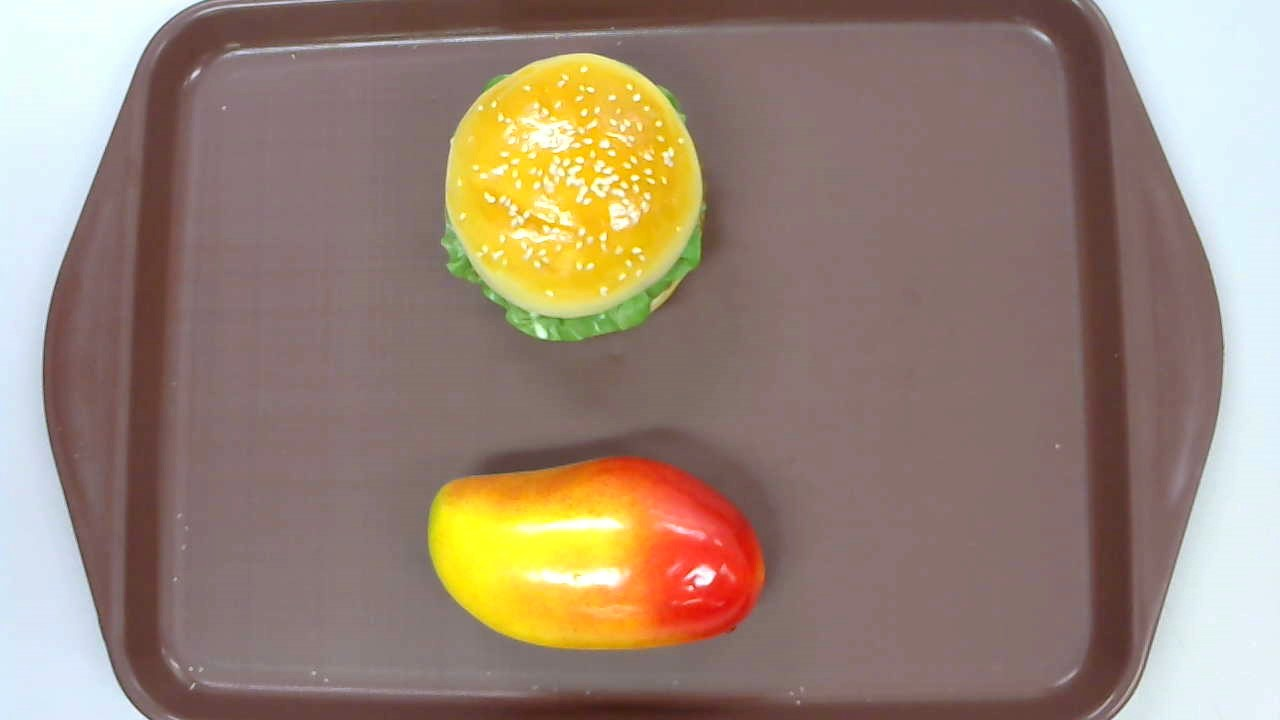hamburger: (439, 53, 708, 341)
red mango: (426, 456, 766, 652)
